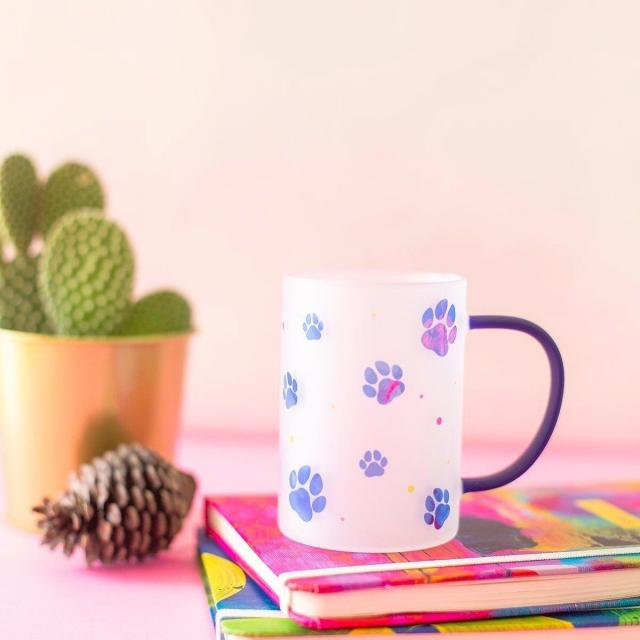glass-mug: (272, 260, 575, 556)
